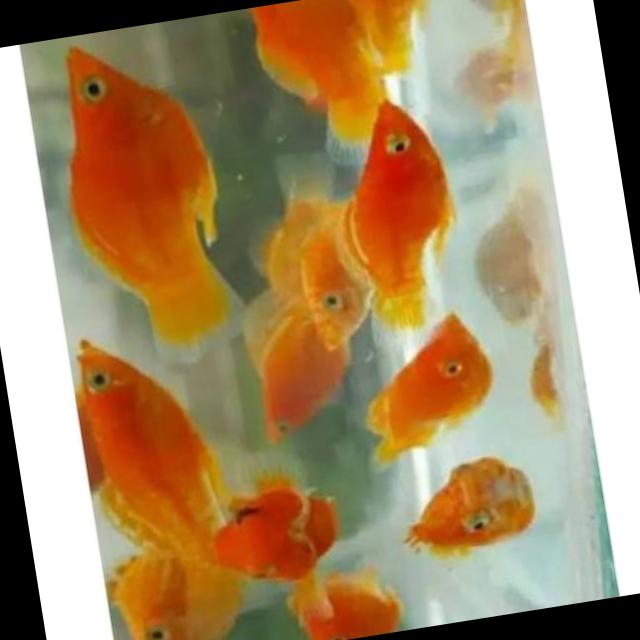PlatyFish: (32, 17, 266, 380), (307, 83, 481, 340), (329, 306, 518, 488), (384, 443, 558, 576)
